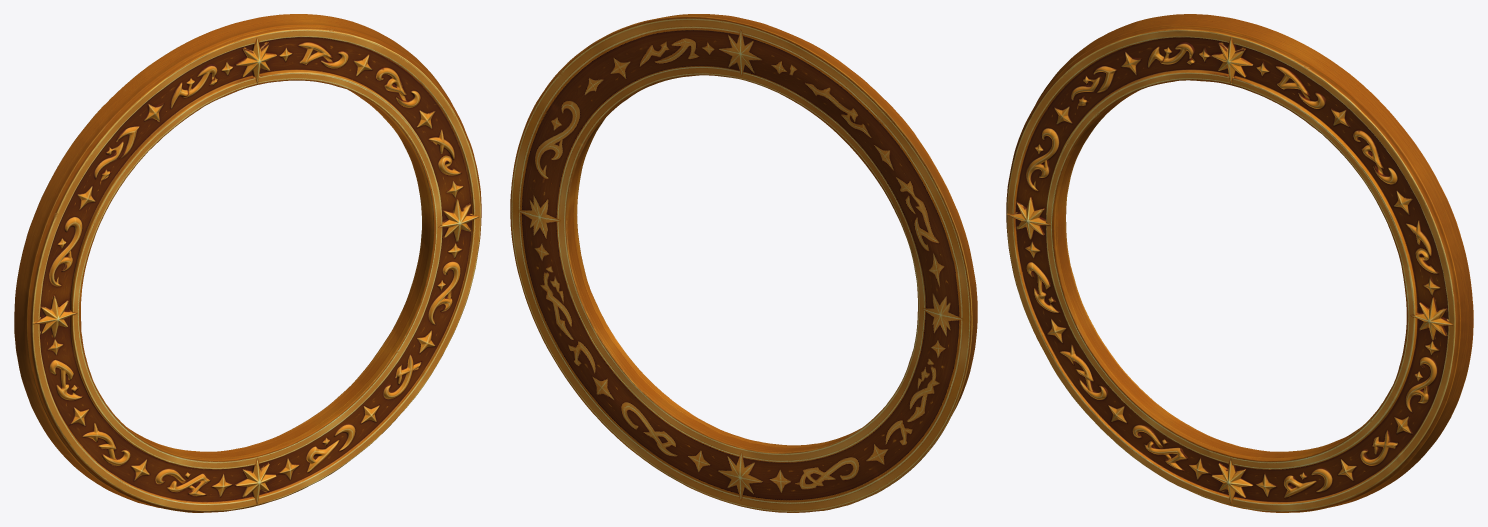
File: armillary-ring.glb
3 renders of one model, left to right at view 1: azimuth 30°, elevation 25°; view 2: azimuth 150°, elevation 25°; view 3: azimuth 330°, elevation 25°, orthographic.
Bounding box in the file's own units: 1.9 × 1.9 × 0.1126.
1 material, 1 textured.
